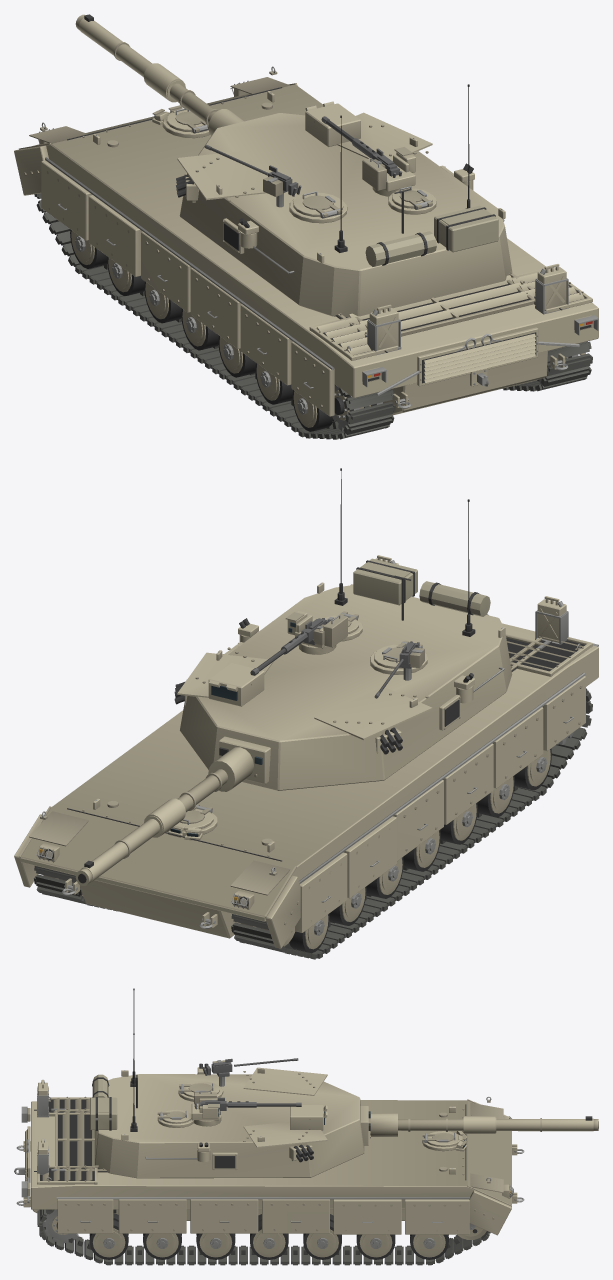
File: usa_mbt_e3.glb
3 views of the same model, one above another, from view 1: azimuth 30°, elevation 25°; view 2: azimuth 150°, elevation 25°; view 3: azimuth 270°, elevation 25° (orthographic). The views are drawn at different scales.
Visible parts, largest first — view 1: body, turret, barrel; view 2: body, turret, barrel; view 3: body, turret, barrel.
Boxes of the visible parts, x1=… form: body: x1=14, y1=66, x2=598, y2=439; turret: x1=176, y1=84, x2=512, y2=317; barrel: x1=75, y1=14, x2=244, y2=135; body: x1=14, y1=555, x2=598, y2=959; turret: x1=174, y1=468, x2=512, y2=790; barrel: x1=75, y1=747, x2=253, y2=885; body: x1=14, y1=1079, x2=524, y2=1265; turret: x1=90, y1=988, x2=370, y2=1178; barrel: x1=370, y1=1113, x2=598, y2=1136.
Bounding box in the file's own units: 3.65 × 3.85 × 9.64.
